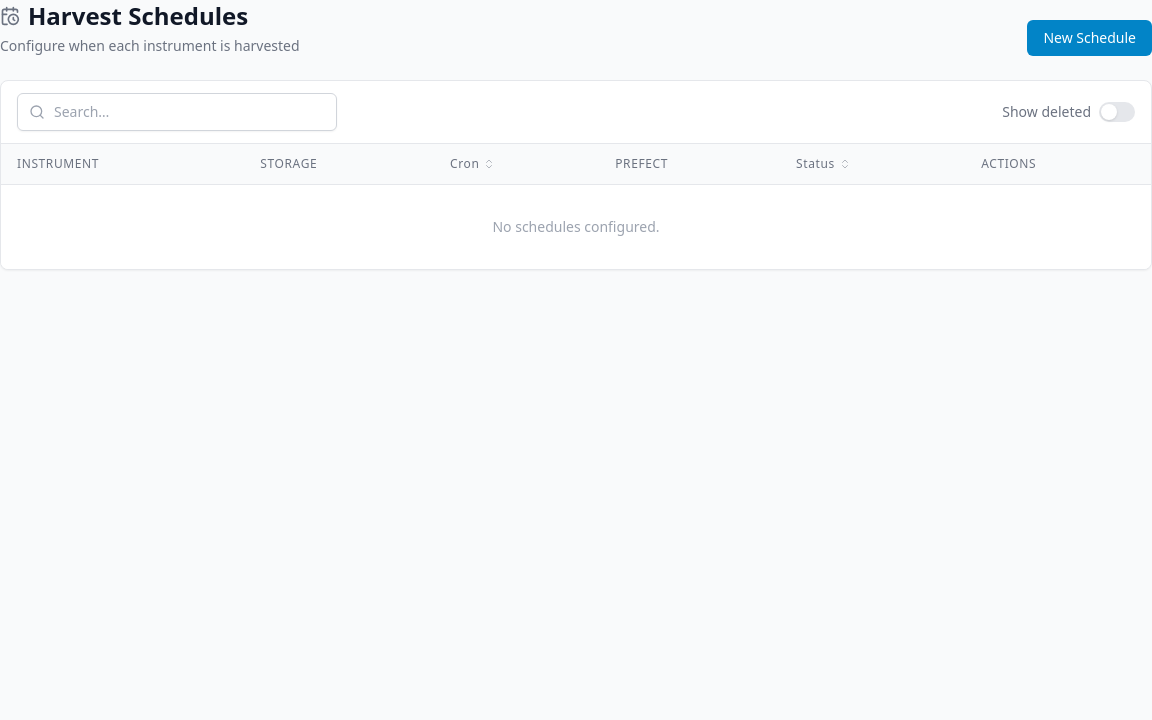
Schedules admin page › "New Schedule" button opens create modal
The width and height of the screenshot is (1152, 720).
Click the button "New Schedule" at [1090, 38], box [1027,20,1151,56]
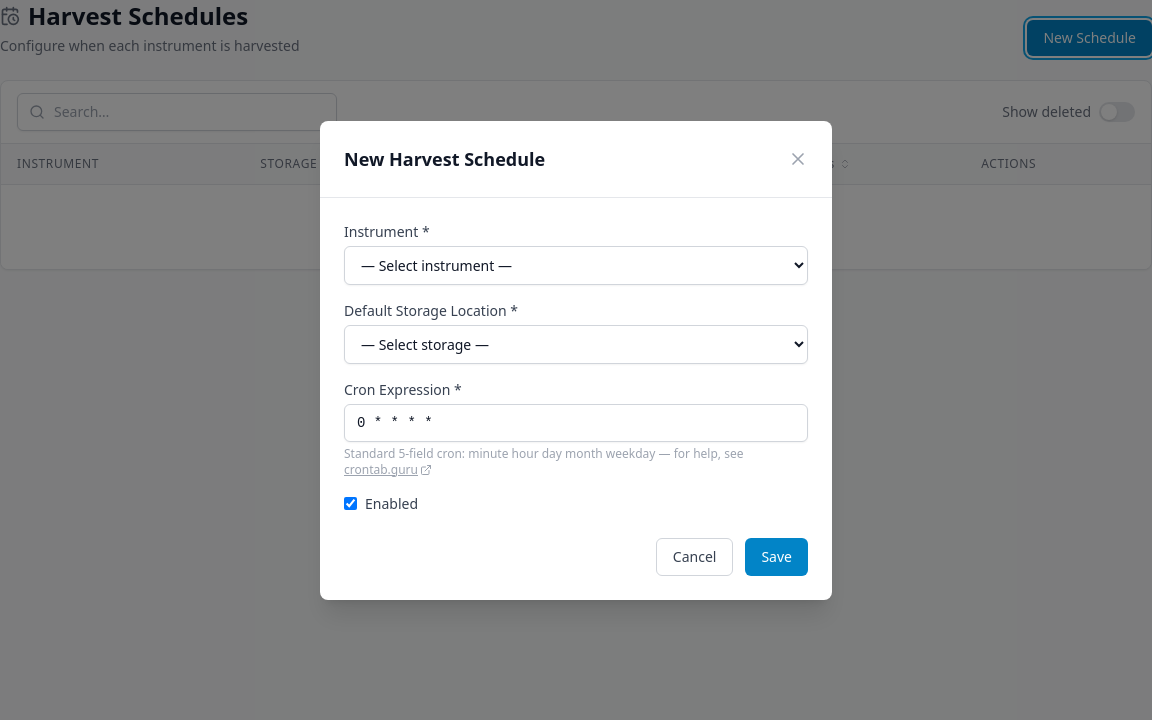
Expected: the heading "New Harvest Schedule" is shown, [344,144,545,172]
